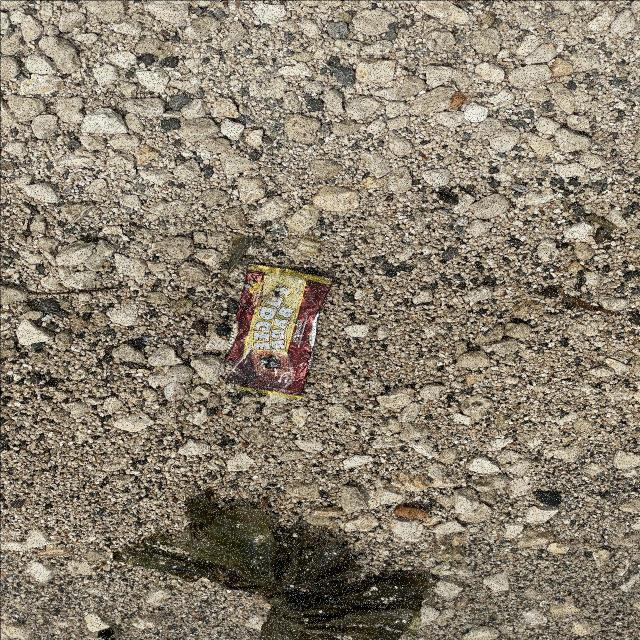plastic_waste: (225, 263, 336, 402)
